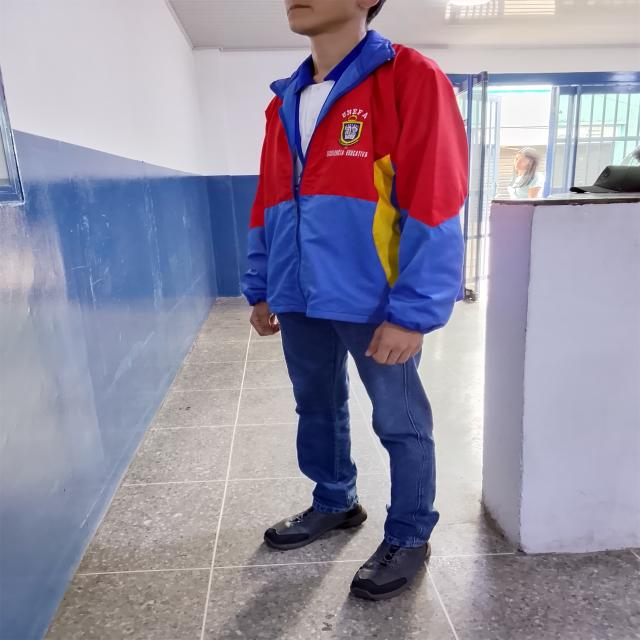chaqueta_unefa: (242, 28, 471, 335)
